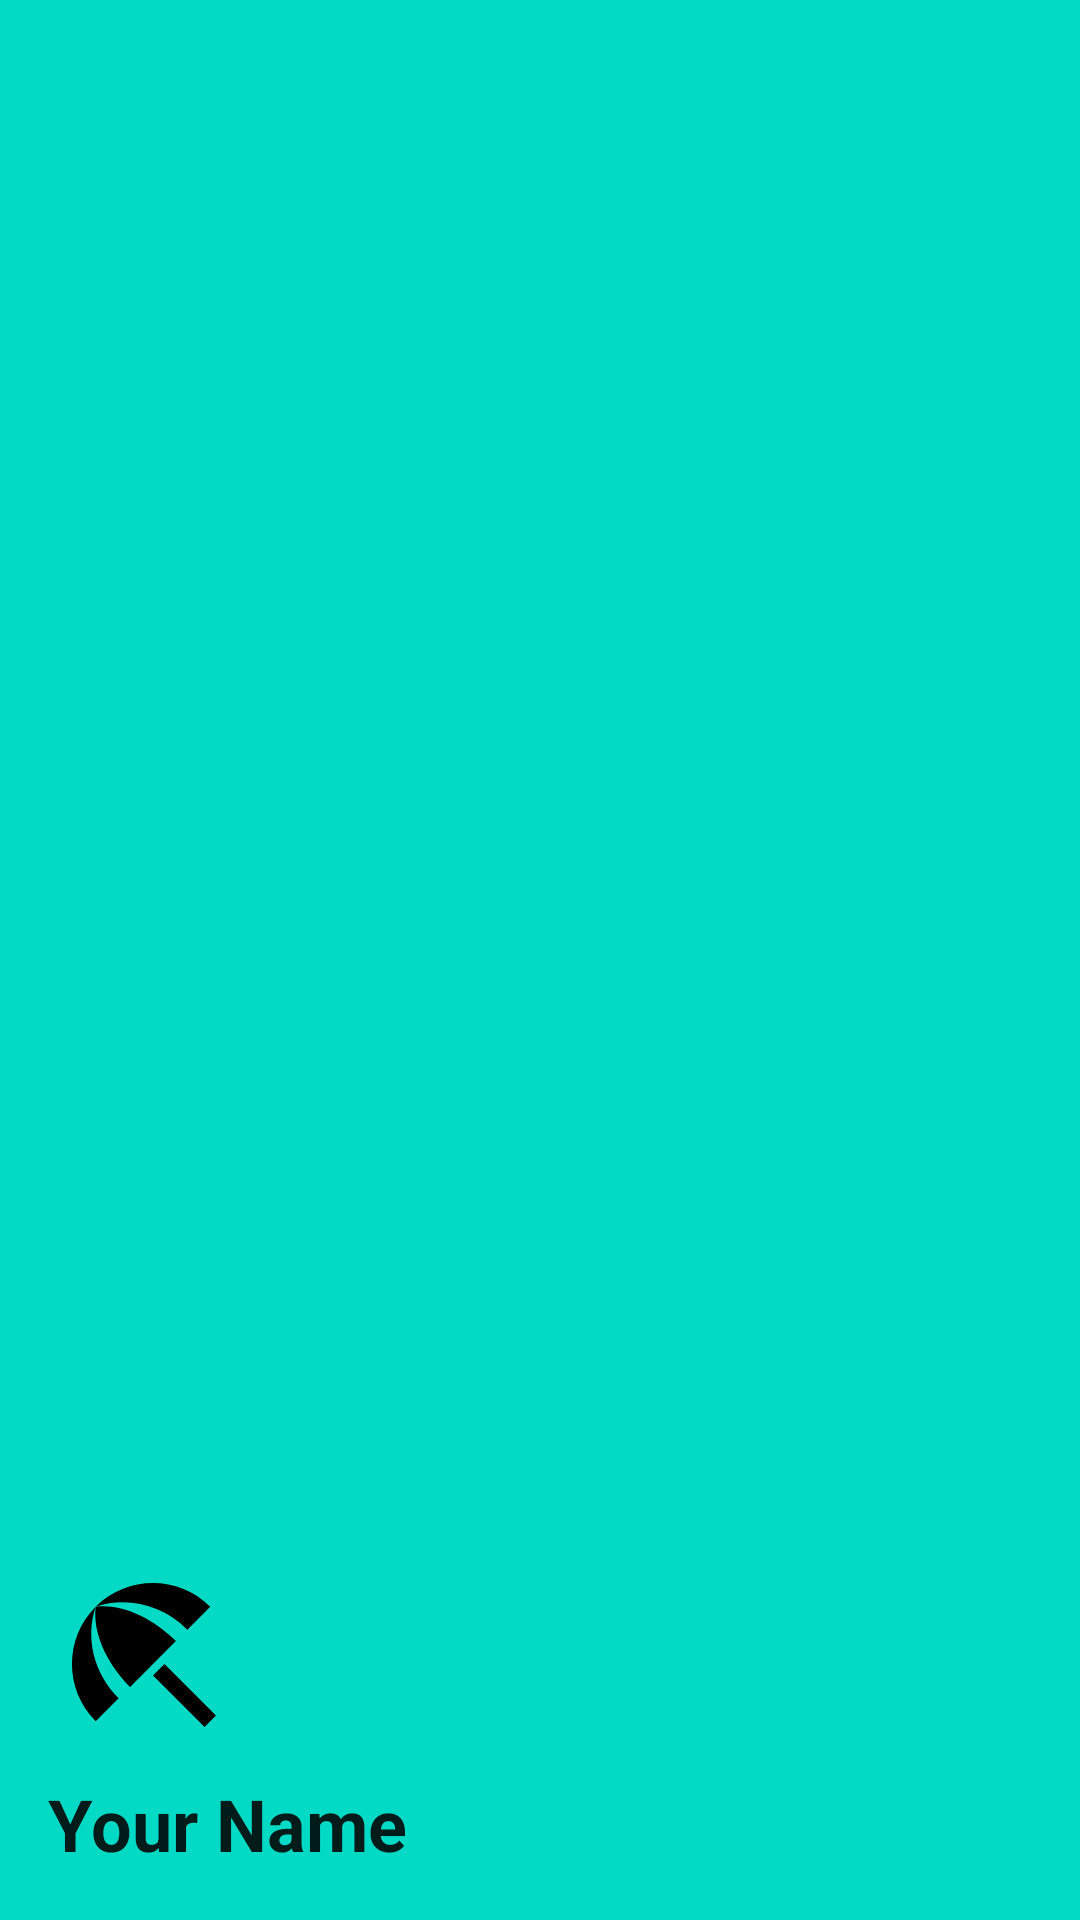

Where to tap for icons on this 1080px x 1920px app screen, as [x,y]:
beach access: [144,1655]
